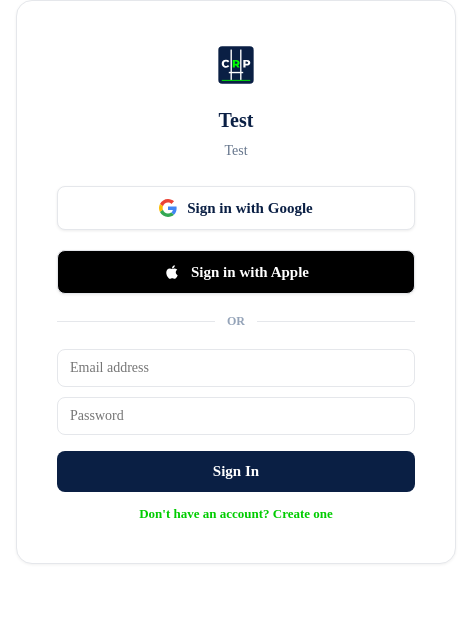
AuthGate › toggles to signup mode
Step 1. Click the button "Don't have an account? Create one" → x=236, y=514, box [133,505,339,523]
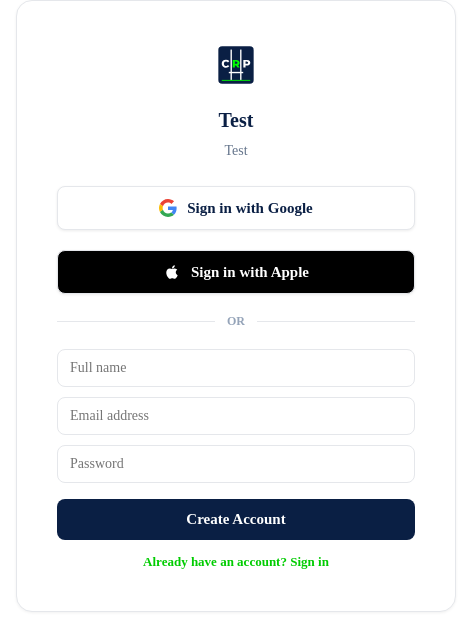
expect the button "Create Account" is shown: met, box [57,499,415,540]
expect the button "Already have an account? Sign in" is shown: met, box [137,553,335,571]
